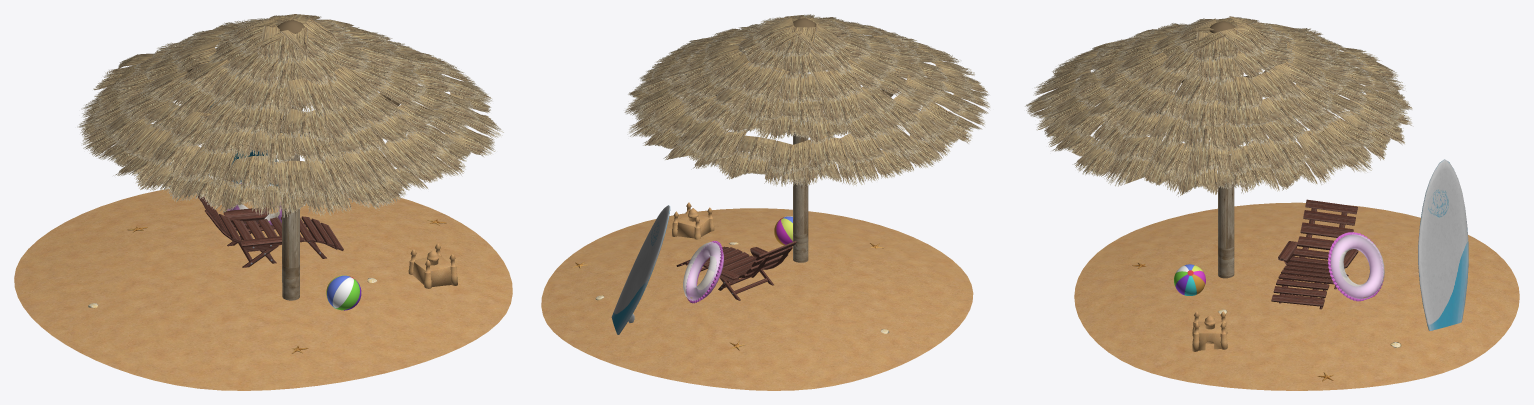
Rendered from beach_summer__assets_kit-834d2a6d.glb.
The picture shows the model from 3 angles, left to right: view 1: azimuth 30°, elevation 25°; view 2: azimuth 150°, elevation 25°; view 3: azimuth 270°, elevation 25°; orthographic projection. The views are drawn at different scales.
Visible parts, largest first — view 1: Object_5, Object_7, Object_12, Object_6, Object_9, Object_4; view 2: Object_5, Object_7, Object_8, Object_12, Object_6, Object_2, Object_3, Object_9, Object_4; view 3: Object_5, Object_7, Object_8, Object_12, Object_3, Object_2, Object_6, Object_9, Object_4.
Boxes of the visible parts, x1=… form: Object_5: x1=14, y1=182, x2=512, y2=390; Object_7: x1=77, y1=14, x2=503, y2=217; Object_12: x1=197, y1=192, x2=343, y2=267; Object_6: x1=183, y1=20, x2=399, y2=300; Object_9: x1=408, y1=243, x2=457, y2=288; Object_4: x1=326, y1=275, x2=361, y2=310; Object_5: x1=541, y1=208, x2=973, y2=390; Object_7: x1=624, y1=14, x2=990, y2=186; Object_8: x1=611, y1=205, x2=670, y2=334; Object_12: x1=676, y1=241, x2=796, y2=300; Object_6: x1=716, y1=18, x2=893, y2=262; Object_2: x1=683, y1=242, x2=720, y2=300; Object_3: x1=686, y1=240, x2=723, y2=303; Object_9: x1=671, y1=202, x2=714, y2=239; Object_4: x1=774, y1=216, x2=792, y2=245; Object_5: x1=1074, y1=202, x2=1519, y2=390; Object_7: x1=1025, y1=16, x2=1413, y2=196; Object_8: x1=1418, y1=159, x2=1468, y2=330; Object_12: x1=1271, y1=199, x2=1358, y2=309; Object_3: x1=1328, y1=232, x2=1384, y2=301; Object_2: x1=1330, y1=234, x2=1384, y2=299; Object_6: x1=1156, y1=21, x2=1287, y2=278; Object_9: x1=1192, y1=311, x2=1227, y2=351; Object_4: x1=1174, y1=264, x2=1205, y2=295.
Bounding box in the file's own units: 3.04 × 2.13 × 3.39.
Materials: 12 (11 with a texture image).
